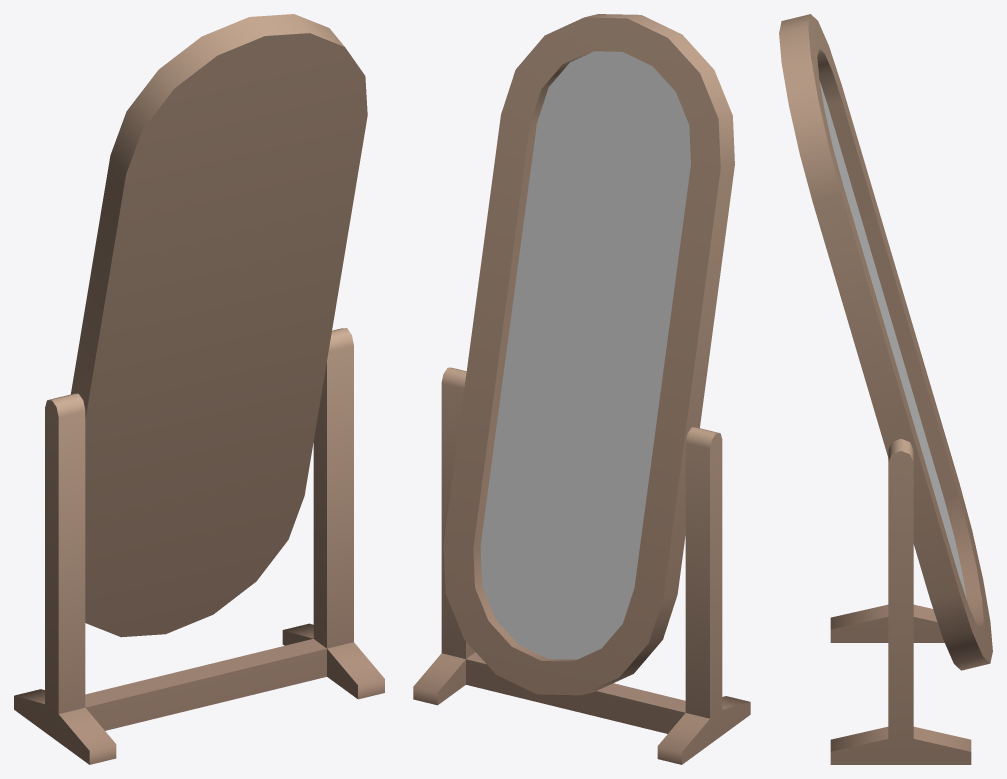
The model's file is mirror-standing-round_0.glb.
The picture shows the model from 3 angles, left to right: view 1: azimuth 30°, elevation 25°; view 2: azimuth 150°, elevation 25°; view 3: azimuth 270°, elevation 25°; orthographic projection. The views are drawn at different scales.
Parts seen in each view (by area): view 1: mirror-standing-round; view 2: mirror-standing-round; view 3: mirror-standing-round.
Part boxes in pixels (x1,y1,x2,y2): mirror-standing-round: [14, 14, 384, 764]; mirror-standing-round: [413, 14, 750, 764]; mirror-standing-round: [779, 14, 992, 764].
Bounding box in the file's own units: 0.5771 × 1.35 × 0.3886.
